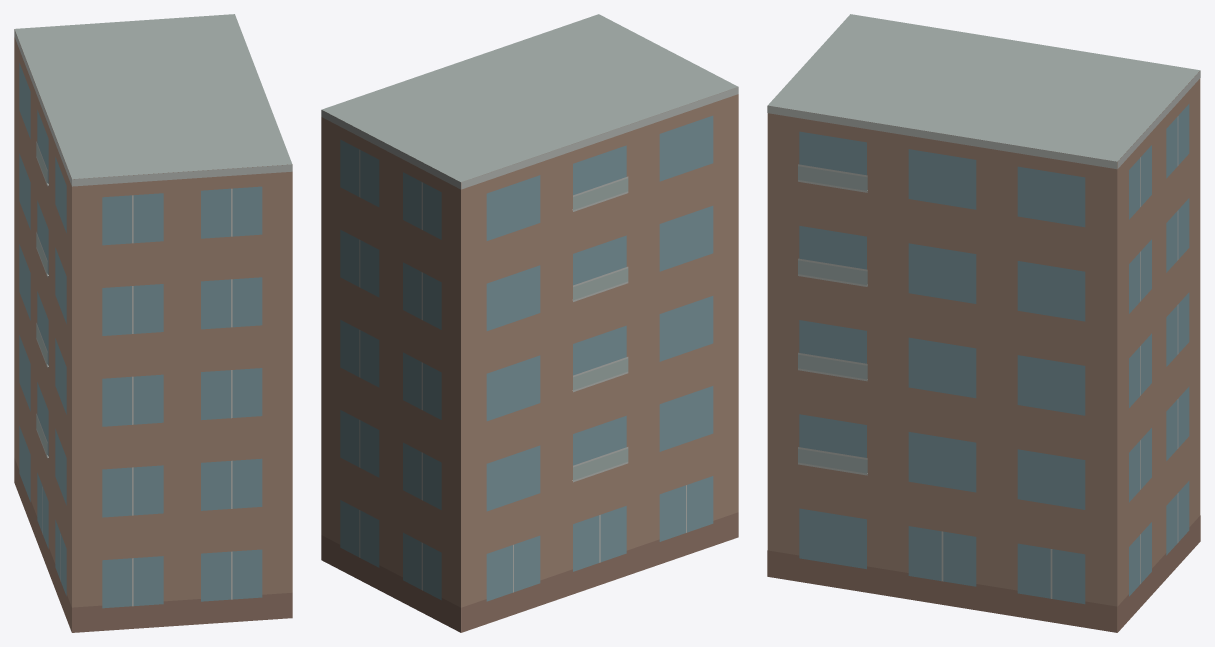
Rendered from survey-upis-32515215.glb.
3 renders of one model, left to right at view 1: azimuth 30°, elevation 25°; view 2: azimuth 150°, elevation 25°; view 3: azimuth 270°, elevation 25°, orthographic. The views are drawn at different scales.
Parts seen in each view (by area): view 1: survey-upis-32515215.tmp; view 2: survey-upis-32515215.tmp; view 3: survey-upis-32515215.tmp.
Part boxes in pixels (<box>): survey-upis-32515215.tmp: <box>14,14,292,632</box>; survey-upis-32515215.tmp: <box>321,14,738,632</box>; survey-upis-32515215.tmp: <box>767,14,1200,632</box>.
Bounding box in the file's own units: 10.16 × 15.1 × 12.58.
